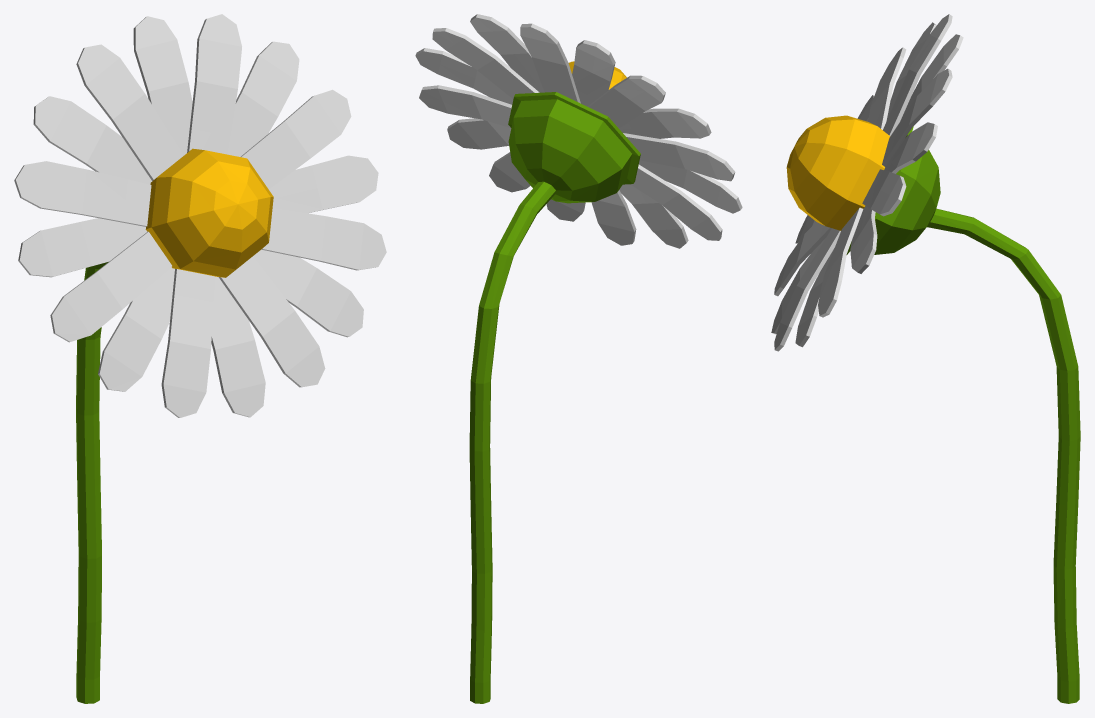
Rendered from ckAqqaCskMy.glb.
The picture shows the model from 3 angles, left to right: view 1: azimuth 30°, elevation 25°; view 2: azimuth 150°, elevation 25°; view 3: azimuth 270°, elevation 25°; orthographic projection. The views are drawn at different scales.
Visible parts, largest first — view 1: Node; view 2: Node; view 3: Node.
Boxes of the visible parts, <box> form: Node: <box>14,14,386,703</box>; Node: <box>415,14,742,703</box>; Node: <box>771,14,1080,703</box>.
Bounding box in the file's own units: 0.5172 × 1 × 0.4223.
